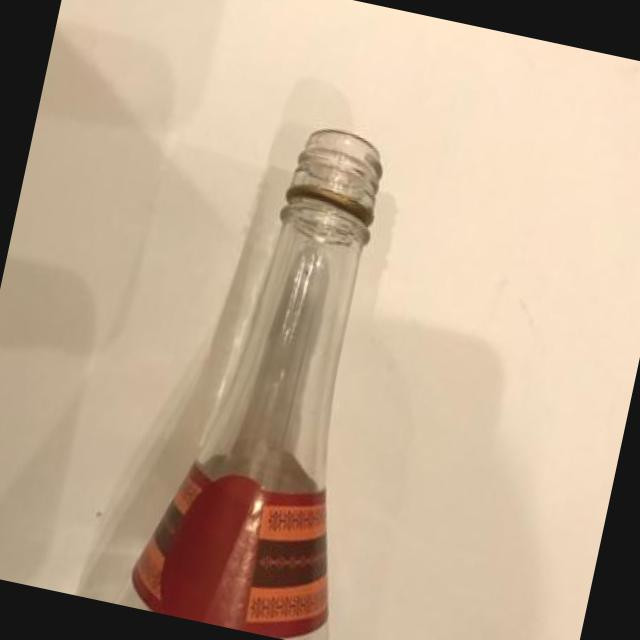chai_thuy_tinh: (115, 127, 383, 640)
